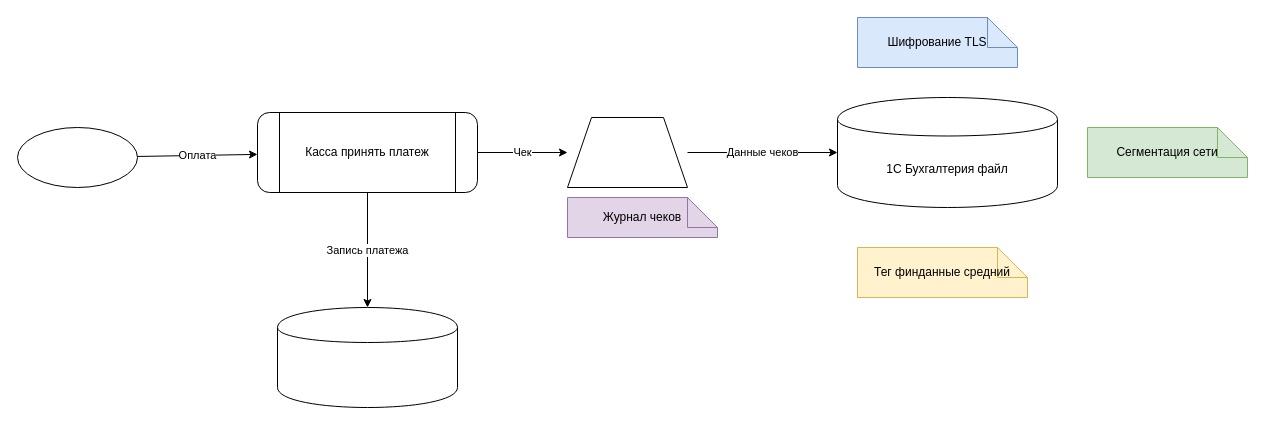
Some shapes in this 1265 by 425 pixel diagram are drawn without their labels. The box of each missing label's shape, as (x1, y1, x2, y2) in pixels:
Excel платежи: (276, 306, 458, 408)
ККМ: (566, 116, 688, 188)
Пациент: (16, 126, 138, 188)
